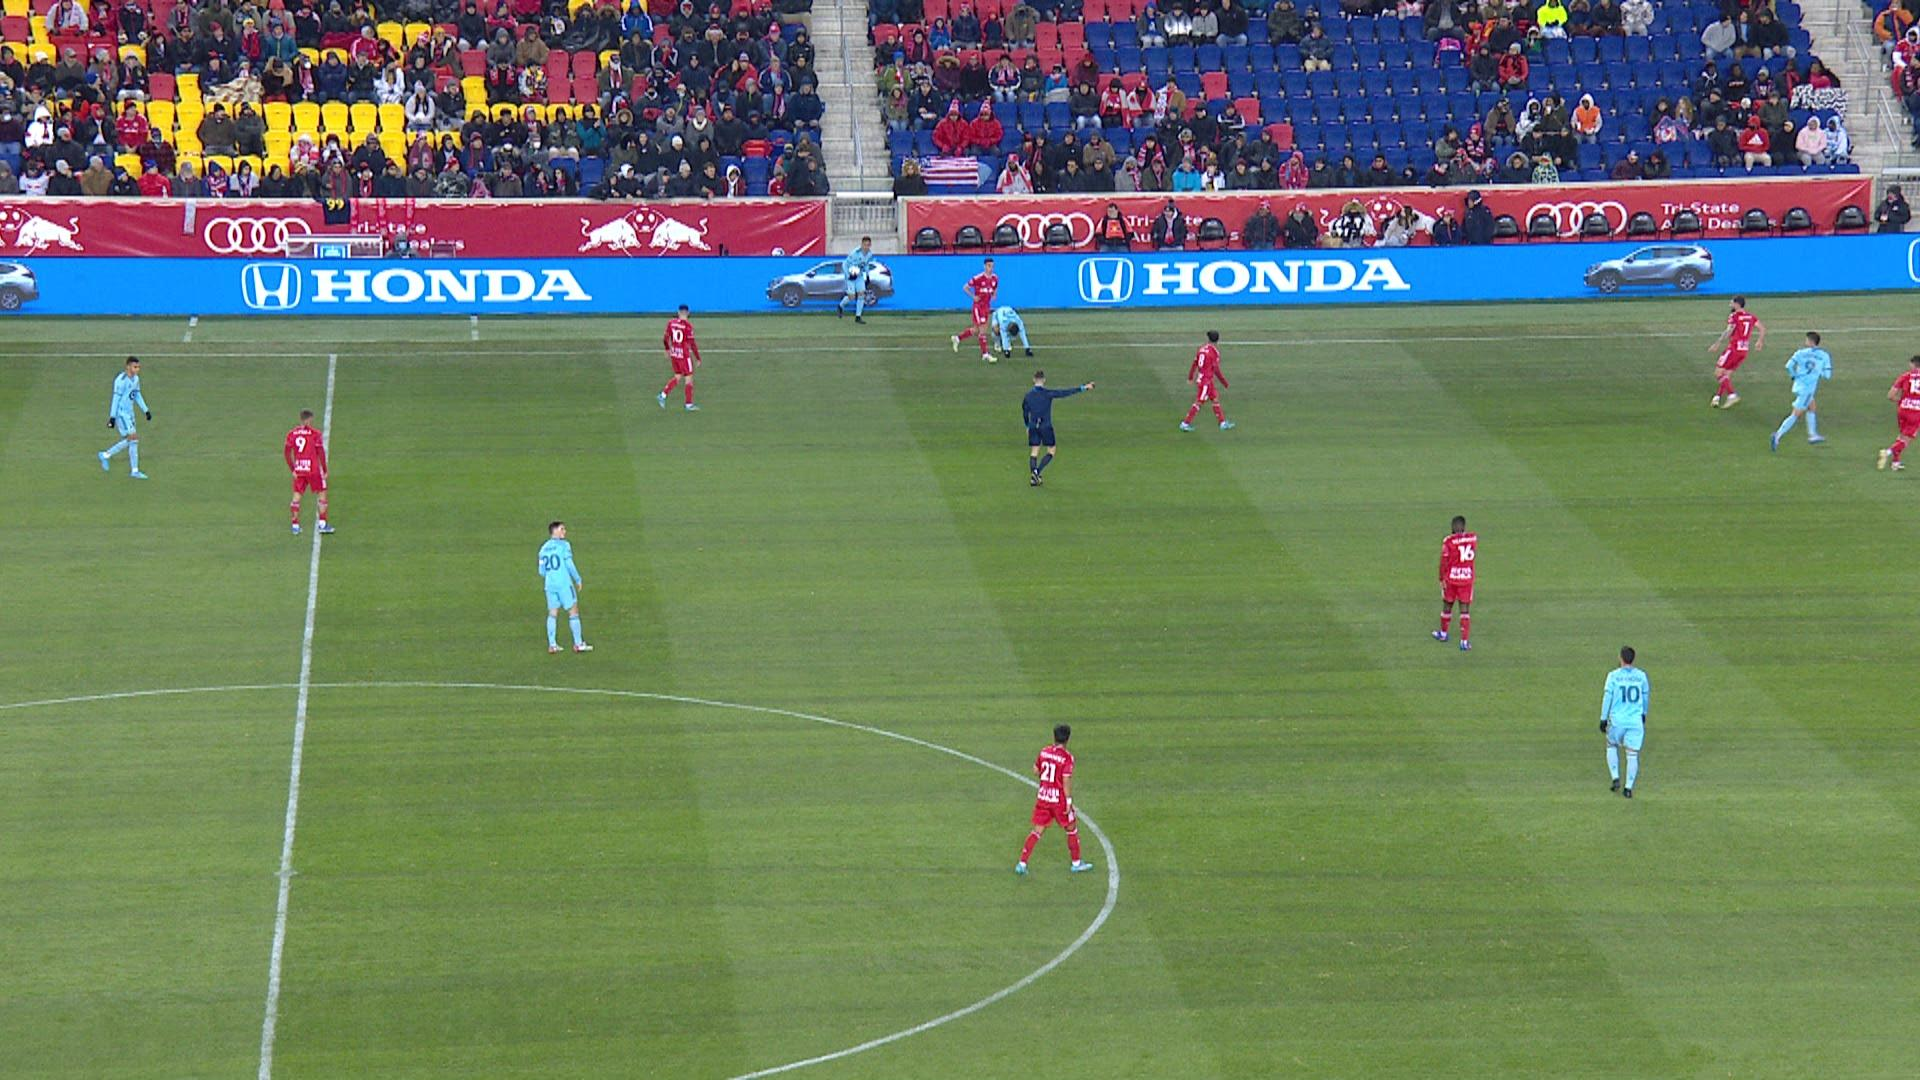football: (851, 268, 860, 274)
